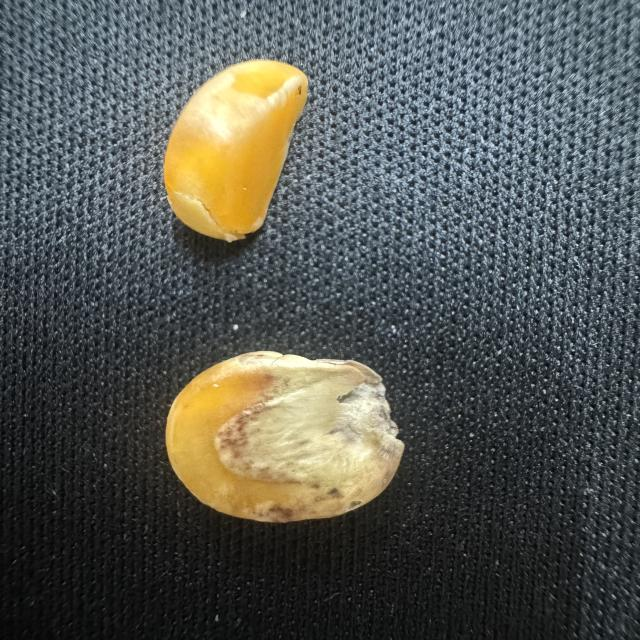Bad-Seed: (162, 348, 410, 529), (160, 55, 314, 245)
